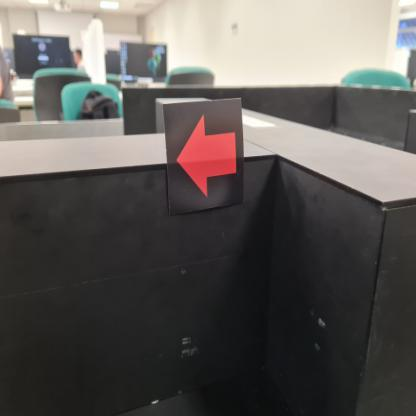left: (163, 98, 245, 216)
